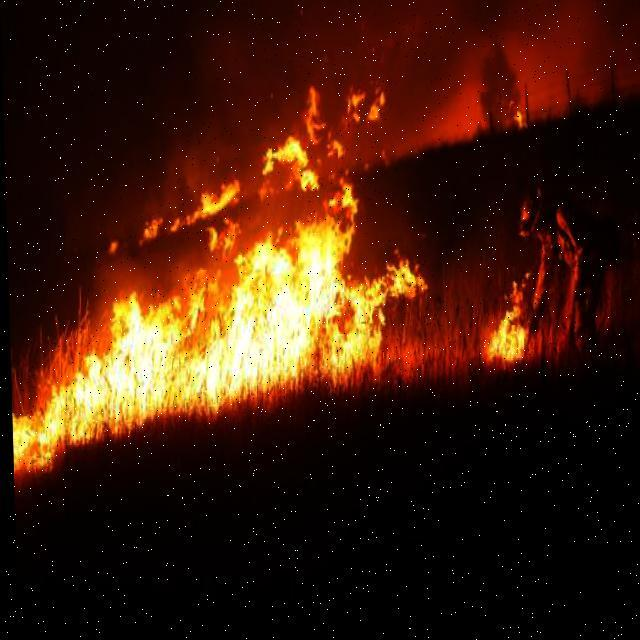Fire: (2, 81, 431, 476), (487, 272, 543, 376)
